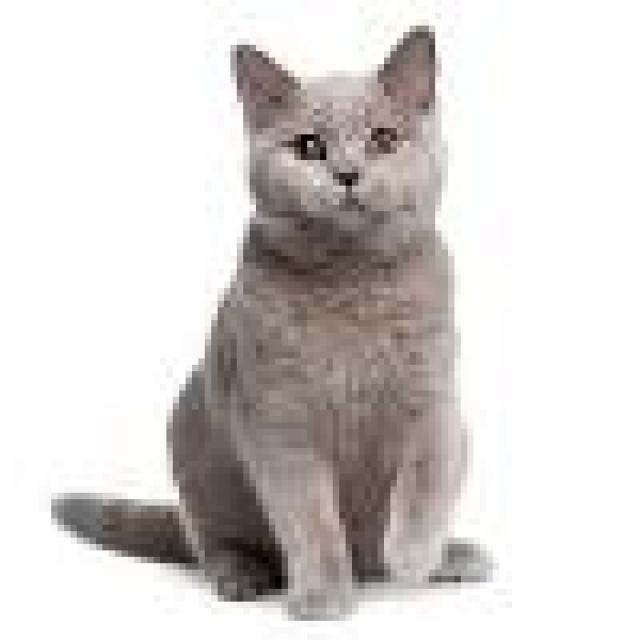Cat: (45, 21, 506, 624)
